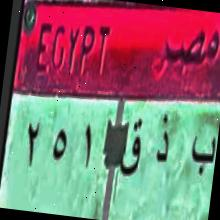1: (72, 118, 100, 176)
2: (16, 116, 45, 176)
5: (46, 123, 73, 170)
baa: (186, 124, 219, 186)
qaaf: (118, 113, 148, 190)
zaal: (146, 108, 176, 180)
